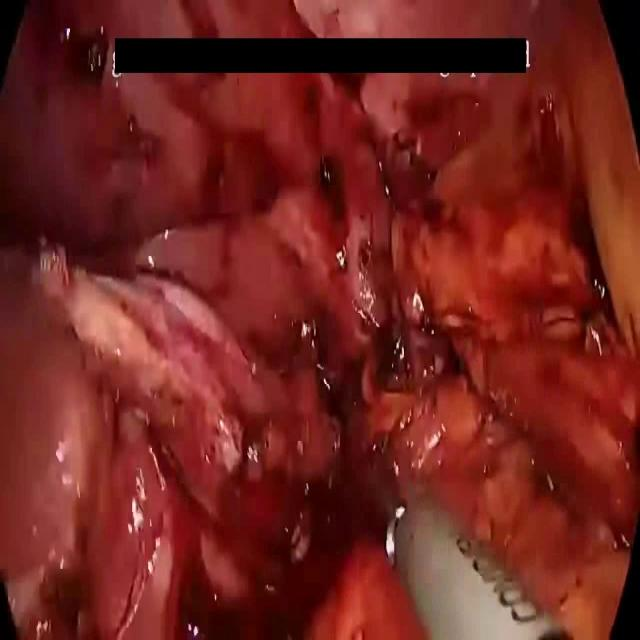surgical-area: (0, 0, 640, 639)
surgical-tool: (384, 504, 578, 639)
